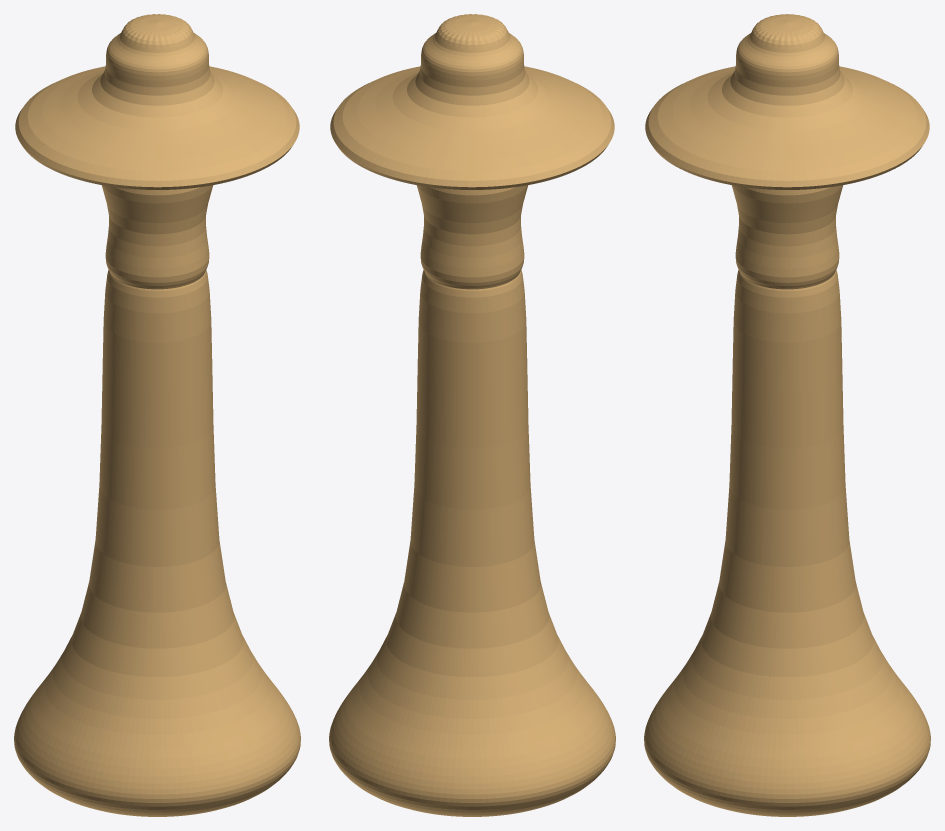
The model's file is King.fbx.
3 views of the same model, side by side, from view 1: azimuth 30°, elevation 25°; view 2: azimuth 150°, elevation 25°; view 3: azimuth 270°, elevation 25° (orthographic).
Visible parts, largest first — view 1: King; view 2: King; view 3: King.
Boxes of the visible parts, left/top/right/bottom form: King: left=14, top=14, right=300, bottom=816; King: left=329, top=14, right=615, bottom=816; King: left=644, top=14, right=930, bottom=816.
Bounding box in the file's own units: 177 × 514 × 177.
